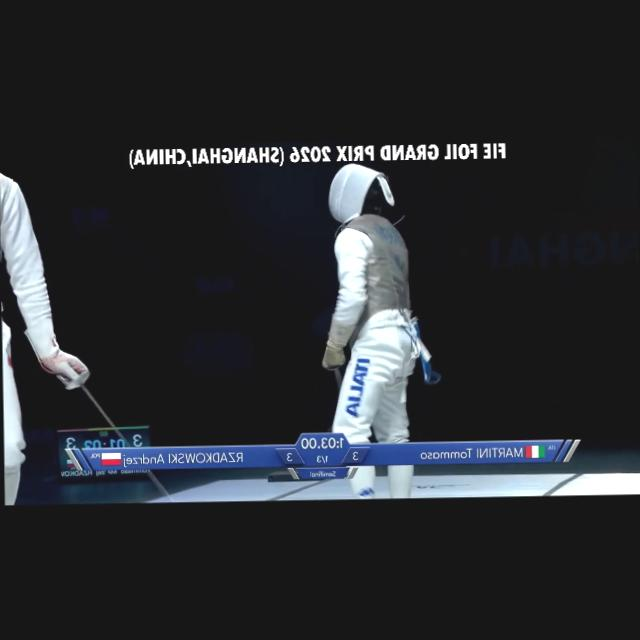blade: (58, 362, 176, 505)
